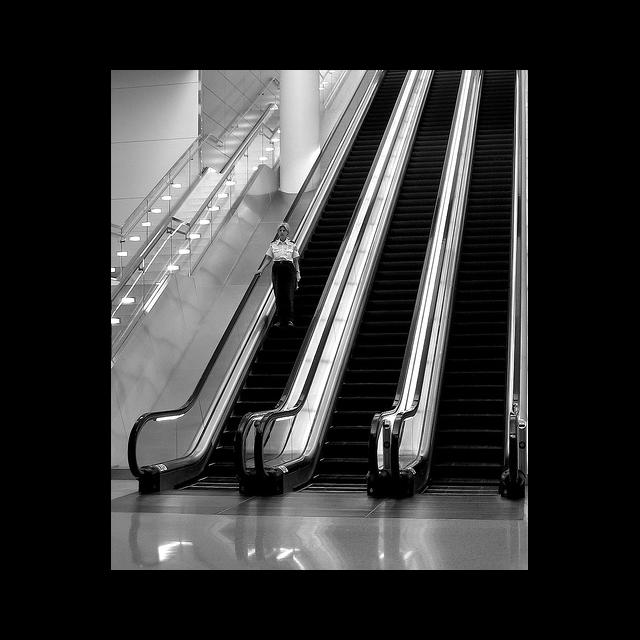NO-Hardhat: (278, 222, 290, 231)
NO-Mask: (279, 231, 287, 238)
NO-Safety Vest: (272, 240, 294, 262)
Person: (256, 222, 302, 328)
